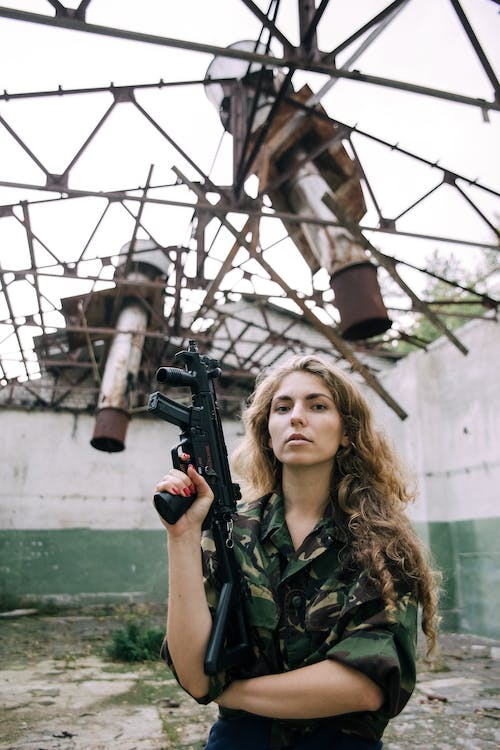gun: (145, 335, 266, 679)
